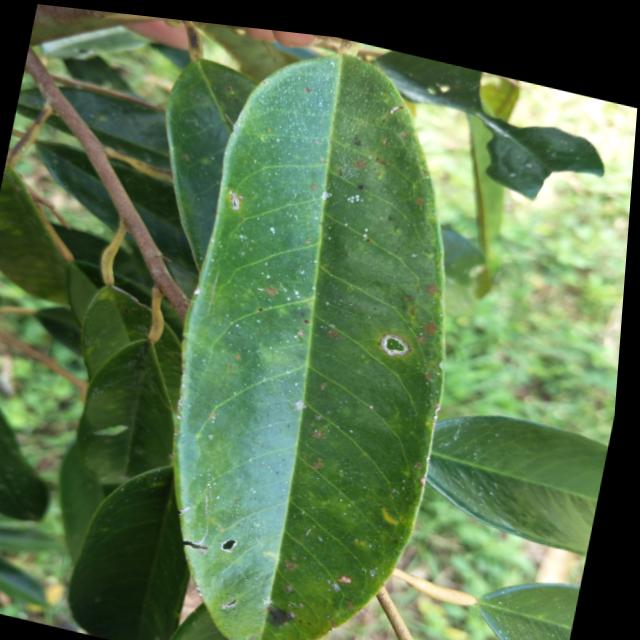Leaf Spot: (191, 179, 392, 397), (239, 65, 440, 219), (272, 476, 385, 594)
